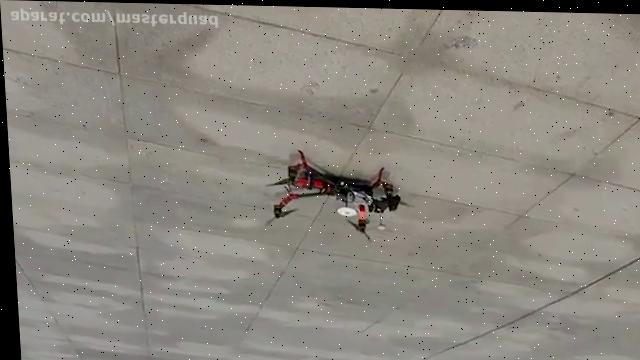drone: (253, 146, 417, 246)
